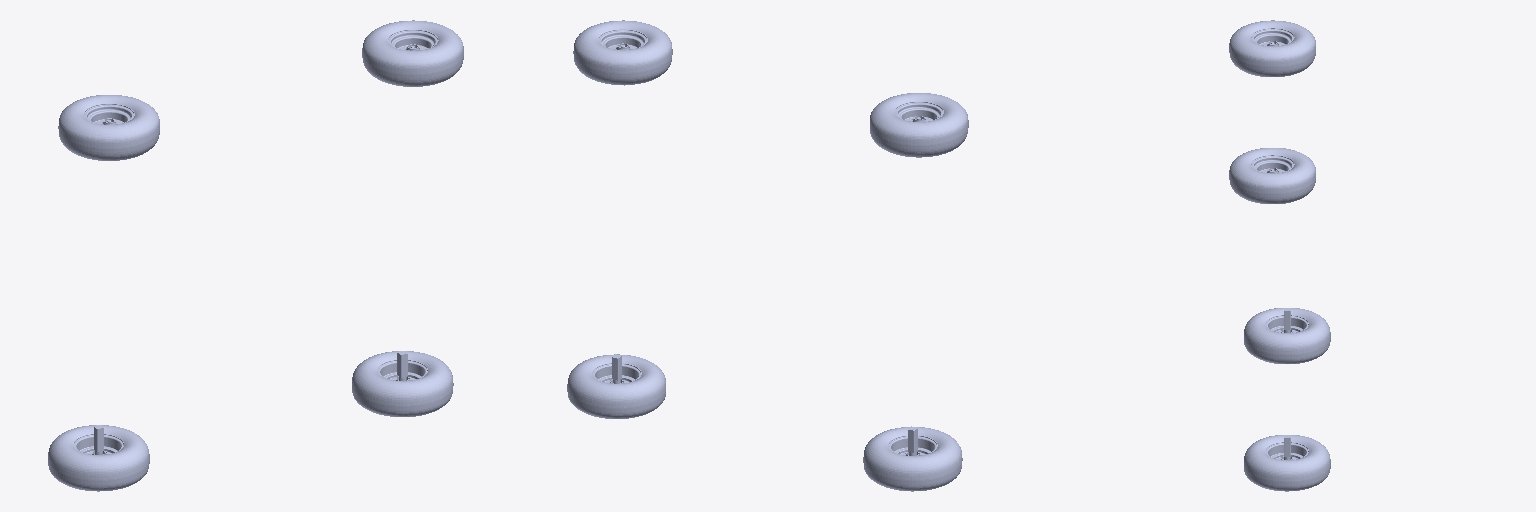
URDF robot description (corn_harvester):
<?xml version="1.0" encoding="utf-8"?>
<robot
  name="corn_harvester">
  <link
    name="base_link">
    <inertial>
      <origin
        xyz="2.058 0.0020787 0.45793"
        rpy="0 0 0" />
      <mass
        value="40068" />
      <inertia
        ixx="172590"
        ixy="321.56"
        ixz="-1374.3"
        iyy="302500"
        iyz="-69.138"
        izz="355850" />
    </inertial>
    <visual>
      <origin
        xyz="0 0 0"
        rpy="0 0 0" />
      <geometry>
        <mesh
          filename="package://sim01_urdf/meshes/base_link.STL" />
      </geometry>
      <material
        name="">
        <color
          rgba="0.79216 0.81961 0.93333 1" />
      </material>
    </visual>
    <collision>
      <origin
        xyz="0 0 0"
        rpy="0 0 0" />
      <geometry>
        <mesh
          filename="package://sim01_urdf/meshes/base_link.STL" />
      </geometry>
    </collision>
  </link>
  <link
    name="left_front_wheel_link0">
    <inertial>
      <origin
        xyz="-0.3271 0.14034 0.020054"
        rpy="0 0 0" />
      <mass
        value="950.62" />
      <inertia
        ixx="388.87"
        ixy="-2.1974E-09"
        ixz="0.001334"
        iyy="218.49"
        iyz="-1.5235E-09"
        izz="218.49" />
    </inertial>
    <visual>
      <origin
        xyz="0 0 0"
        rpy="0 0 0" />
      <geometry>
        <mesh
          filename="package://sim01_urdf/meshes/left_front_wheel_link0.STL" />
      </geometry>
      <material
        name="">
        <color
          rgba="0.79216 0.81961 0.93333 1" />
      </material>
    </visual>
    <collision>
      <origin
        xyz="0 0 0"
        rpy="0 0 0" />
      <geometry>
        <mesh
          filename="package://sim01_urdf/meshes/left_front_wheel_link0.STL" />
      </geometry>
    </collision>
  </link>
  <joint
    name="left_front_wheel_joint0"
    type="continuous">
    <origin
      xyz="3.4954 1.1624 2.767"
      rpy="0 1.5708 0" />
    <parent
      link="base_link" />
    <child
      link="left_front_wheel_link0" />
    <axis
      xyz="0 1 0" />
  </joint>
  <link
    name="right_front_wheel_link1">
    <inertial>
      <origin
        xyz="-0.3271 0.14034 0.020054"
        rpy="0 0 0" />
      <mass
        value="950.62" />
      <inertia
        ixx="388.87"
        ixy="-2.1856E-09"
        ixz="0.001334"
        iyy="218.49"
        iyz="-1.5235E-09"
        izz="218.49" />
    </inertial>
    <visual>
      <origin
        xyz="0 0 0"
        rpy="0 0 0" />
      <geometry>
        <mesh
          filename="package://sim01_urdf/meshes/right_front_wheel_link1.STL" />
      </geometry>
      <material
        name="">
        <color
          rgba="0.79216 0.81961 0.93333 1" />
      </material>
    </visual>
    <collision>
      <origin
        xyz="0 0 0"
        rpy="0 0 0" />
      <geometry>
        <mesh
          filename="package://sim01_urdf/meshes/right_front_wheel_link1.STL" />
      </geometry>
    </collision>
  </link>
  <joint
    name="right_front_wheel_joint1"
    type="continuous">
    <origin
      xyz="3.4954 1.4431 -2.767"
      rpy="0 -1.5708 0" />
    <parent
      link="base_link" />
    <child
      link="right_front_wheel_link1" />
    <axis
      xyz="0 1 0" />
  </joint>
  <link
    name="right_rear_wheel_link2">
    <inertial>
      <origin
        xyz="-0.3271 0.14034 0.020054"
        rpy="0 0 0" />
      <mass
        value="950.62" />
      <inertia
        ixx="388.87"
        ixy="-2.1856E-09"
        ixz="0.001334"
        iyy="218.49"
        iyz="-1.5235E-09"
        izz="218.49" />
    </inertial>
    <visual>
      <origin
        xyz="0 0 0"
        rpy="0 0 0" />
      <geometry>
        <mesh
          filename="package://sim01_urdf/meshes/right_rear_wheel_link2.STL" />
      </geometry>
      <material
        name="">
        <color
          rgba="0.79216 0.81961 0.93333 1" />
      </material>
    </visual>
    <collision>
      <origin
        xyz="0 0 0"
        rpy="0 0 0" />
      <geometry>
        <mesh
          filename="package://sim01_urdf/meshes/right_rear_wheel_link2.STL" />
      </geometry>
    </collision>
  </link>
  <joint
    name="right_rear_wheel_joint2"
    type="continuous">
    <origin
      xyz="-2.3646 1.4431 -2.767"
      rpy="0 -1.5708 0" />
    <parent
      link="base_link" />
    <child
      link="right_rear_wheel_link2" />
    <axis
      xyz="0 1 0" />
  </joint>
  <link
    name="left_rear_wheel_link3">
    <inertial>
      <origin
        xyz="-0.3271 0.14034 0.020054"
        rpy="0 0 0" />
      <mass
        value="950.62" />
      <inertia
        ixx="388.87"
        ixy="-2.1974E-09"
        ixz="0.001334"
        iyy="218.49"
        iyz="-1.5235E-09"
        izz="218.49" />
    </inertial>
    <visual>
      <origin
        xyz="0 0 0"
        rpy="0 0 0" />
      <geometry>
        <mesh
          filename="package://sim01_urdf/meshes/left_rear_wheel_link3.STL" />
      </geometry>
      <material
        name="">
        <color
          rgba="0.79216 0.81961 0.93333 1" />
      </material>
    </visual>
    <collision>
      <origin
        xyz="0 0 0"
        rpy="0 0 0" />
      <geometry>
        <mesh
          filename="package://sim01_urdf/meshes/left_rear_wheel_link3.STL" />
      </geometry>
    </collision>
  </link>
  <joint
    name="left_rear_wheel_joint3"
    type="continuous">
    <origin
      xyz="-2.3646 1.1624 2.767"
      rpy="0 1.5708 0" />
    <parent
      link="base_link" />
    <child
      link="left_rear_wheel_link3" />
    <axis
      xyz="0 1 0" />
  </joint>
  <link
    name="laser_link">
    <inertial>
      <origin
        xyz="-0.00099017 -0.21034 -0.0064028"
        rpy="0 0 0" />
      <mass
        value="141.89" />
      <inertia
        ixx="4.3307"
        ixy="-0.014198"
        ixz="-0.1636"
        iyy="6.8801"
        iyz="-0.022422"
        izz="4.3567" />
    </inertial>
    <visual>
      <origin
        xyz="0 0 0"
        rpy="0 0 0" />
      <geometry>
        <mesh
          filename="package://sim01_urdf/meshes/laser_link.STL" />
      </geometry>
      <material
        name="">
        <color
          rgba="0.79216 0.81961 0.93333 1" />
      </material>
    </visual>
    <collision>
      <origin
        xyz="0 0 0"
        rpy="0 0 0" />
      <geometry>
        <mesh
          filename="package://sim01_urdf/meshes/laser_link.STL" />
      </geometry>
    </collision>
  </link>
  <joint
    name="laser_joint"
    type="fixed">
    <origin
      xyz="2.8823 -3.7226 0.005493"
      rpy="0.0043263 0.7476 -3.1367" />
    <parent
      link="base_link" />
    <child
      link="laser_link" />
    <axis
      xyz="0 0 0" />
  </joint>
</robot>

--- Render facts (derived) ---
Views: 3 orthographic renders of the robot side by side, from view 1: azimuth 30°, elevation 25°; view 2: azimuth 150°, elevation 25°; view 3: azimuth 270°, elevation 25°.
Robot: corn_harvester — 6 links, 5 joints (4 continuous, 1 fixed); root link base_link; default pose: all joints at 0.
Visible links, largest first — view 1: left_front_wheel_link0, right_rear_wheel_link2, right_front_wheel_link1, left_rear_wheel_link3; view 2: left_front_wheel_link0, right_rear_wheel_link2, right_front_wheel_link1, left_rear_wheel_link3; view 3: right_front_wheel_link1, left_rear_wheel_link3, left_front_wheel_link0, right_rear_wheel_link2.
Link boxes in pixels (x1=…): left_front_wheel_link0: x1=362, y1=20, x2=463, y2=86; right_rear_wheel_link2: x1=48, y1=425, x2=149, y2=491; right_front_wheel_link1: x1=352, y1=351, x2=453, y2=416; left_rear_wheel_link3: x1=58, y1=95, x2=159, y2=160; left_front_wheel_link0: x1=573, y1=20, x2=672, y2=85; right_rear_wheel_link2: x1=863, y1=426, x2=962, y2=491; right_front_wheel_link1: x1=567, y1=354, x2=665, y2=418; left_rear_wheel_link3: x1=870, y1=93, x2=968, y2=157; right_front_wheel_link1: x1=1244, y1=435, x2=1330, y2=491; left_rear_wheel_link3: x1=1229, y1=20, x2=1315, y2=76; left_front_wheel_link0: x1=1229, y1=148, x2=1315, y2=203; right_rear_wheel_link2: x1=1244, y1=308, x2=1330, y2=363.
Size in the robot's own frame: 7.6 by 1.98 by 6.81 metres.
Meshes: 6 distinct files referenced, 4 mesh visuals loaded (4 binary STL); not drawn: 2 (reference not matched to a file when rendering).